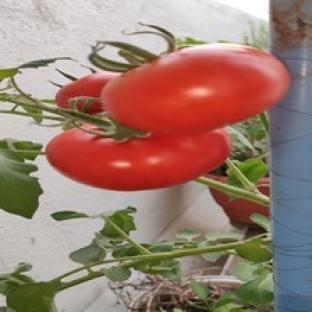Tomato: (102, 44, 289, 133), (46, 129, 231, 190), (56, 72, 118, 114)
